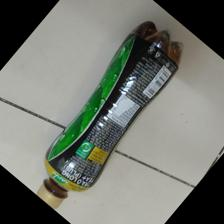Olong: (28, 22, 185, 213)
